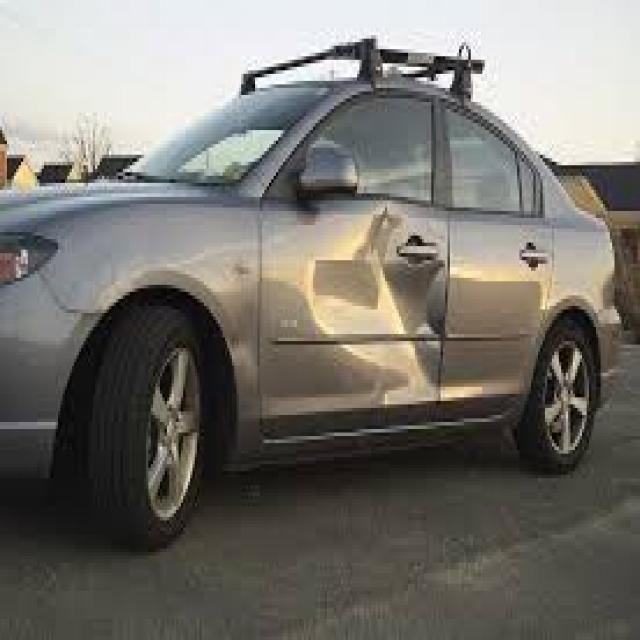minor: (280, 162, 462, 406)
